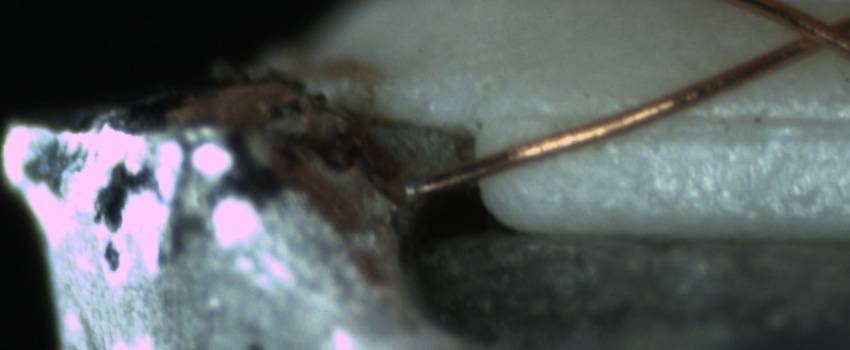CL: (772, 5, 848, 60)
DL: (531, 84, 849, 155)
